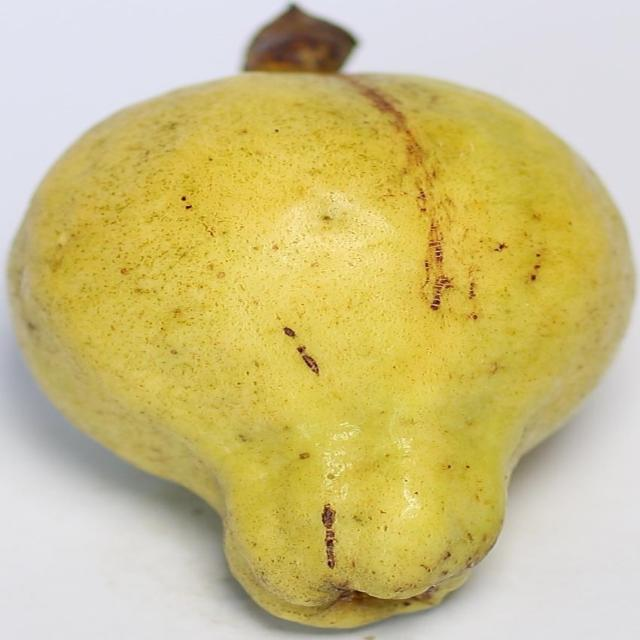Good_Guava: (6, 70, 637, 634)
